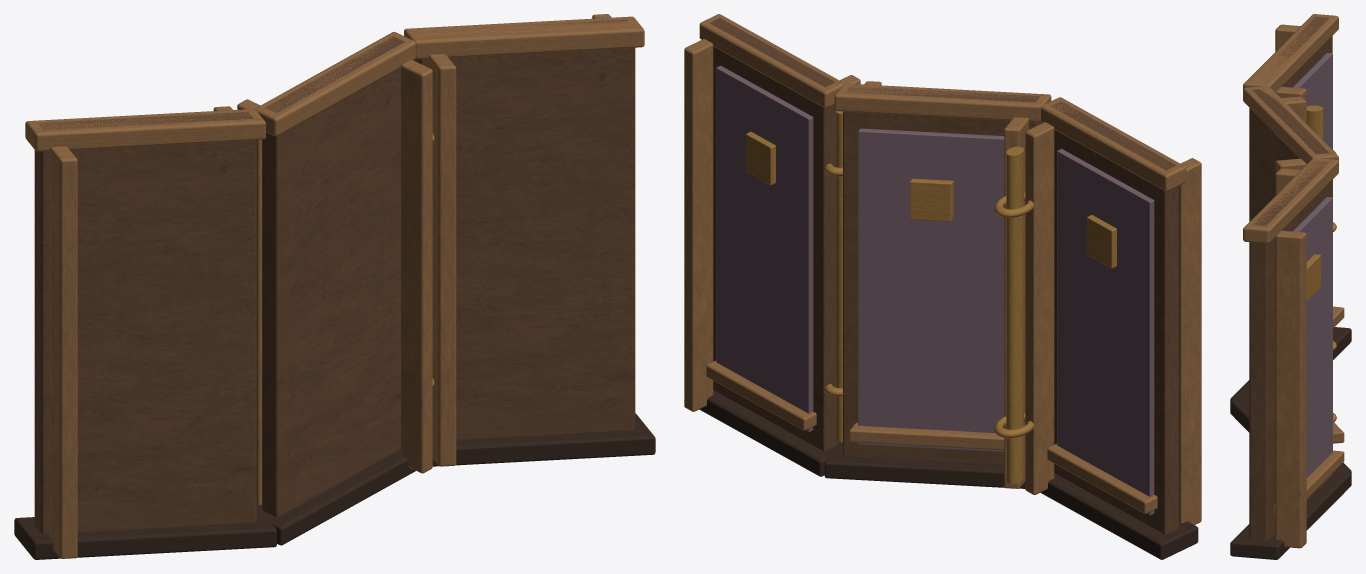
File: folding_screen.glb
The picture shows the model from 3 angles, left to right: view 1: azimuth 30°, elevation 25°; view 2: azimuth 150°, elevation 25°; view 3: azimuth 270°, elevation 25°; orthographic projection. The views are drawn at different scales.
Visible parts, largest first — view 1: folding_screen; view 2: folding_screen; view 3: folding_screen.
Part boxes in pixels (bbox=[...]): folding_screen: bbox=[14, 14, 655, 559]; folding_screen: bbox=[684, 14, 1201, 559]; folding_screen: bbox=[1230, 14, 1351, 559].
Bounding box in the file's own units: 2.6 × 1.8 × 0.6.
Materials: 1 (1 with a texture image).
